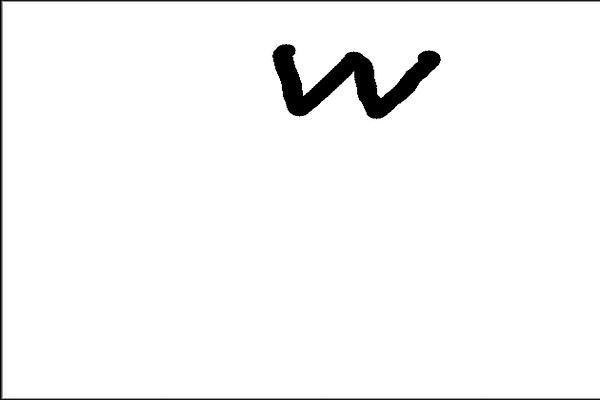w: (260, 28, 445, 131)
